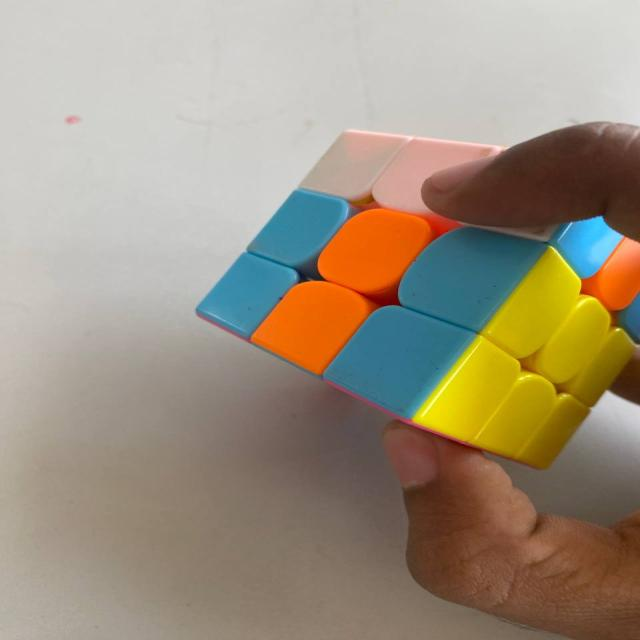Cube-3x3: (214, 116, 640, 480)
